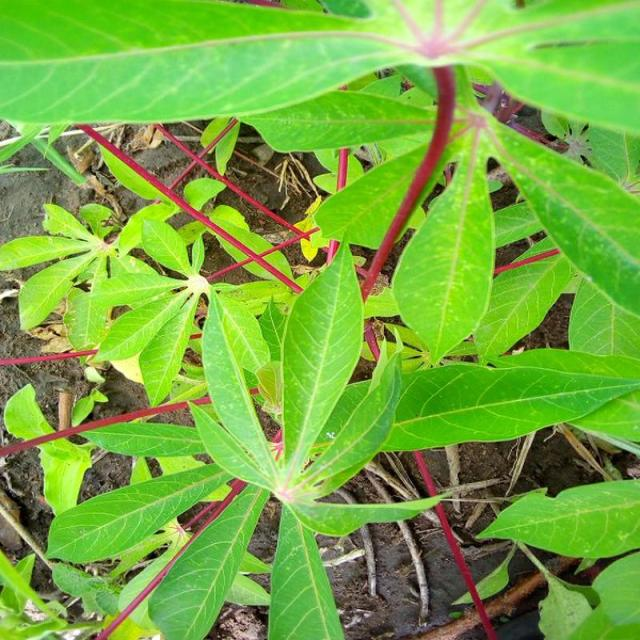cassava leaf: (1, 1, 638, 637), (390, 138, 496, 364), (279, 237, 365, 479)
